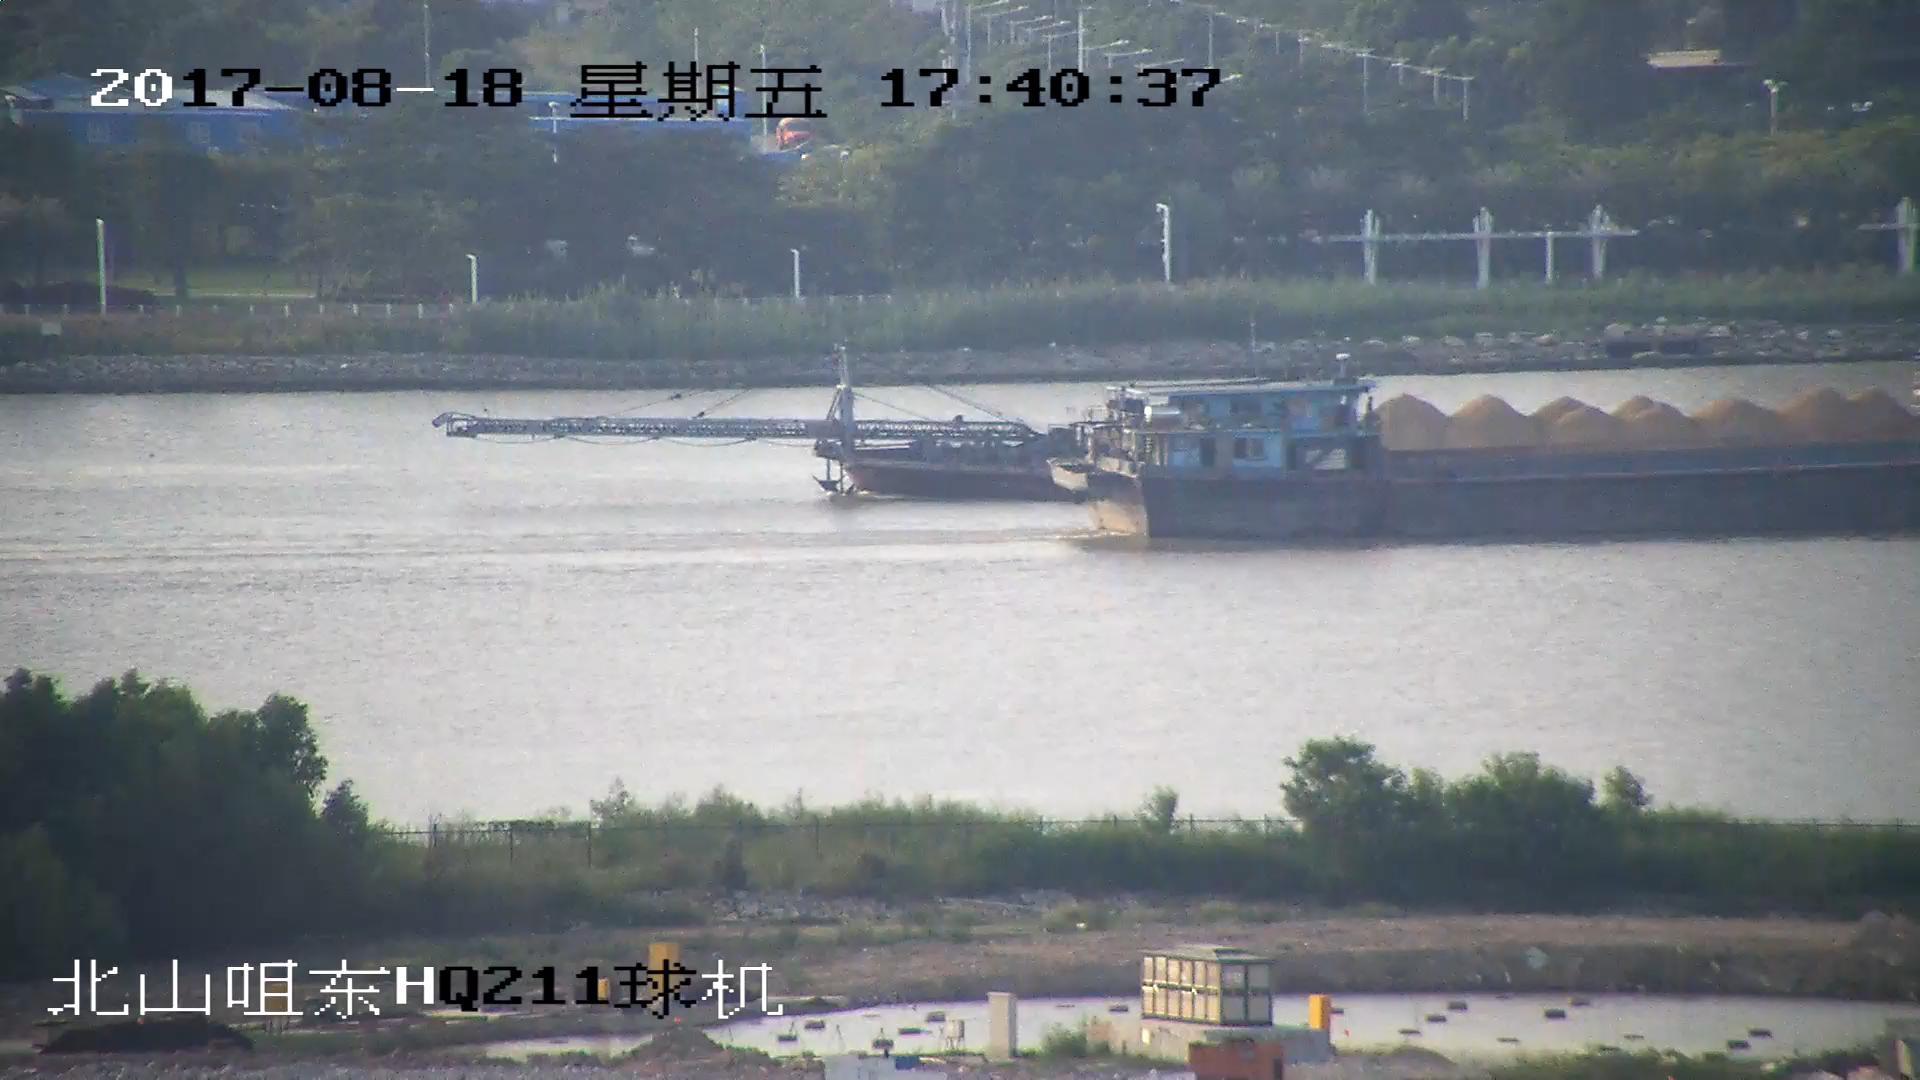bulk cargo carrier: (1068, 391, 1920, 542)
ore carrier: (437, 352, 1919, 507)
